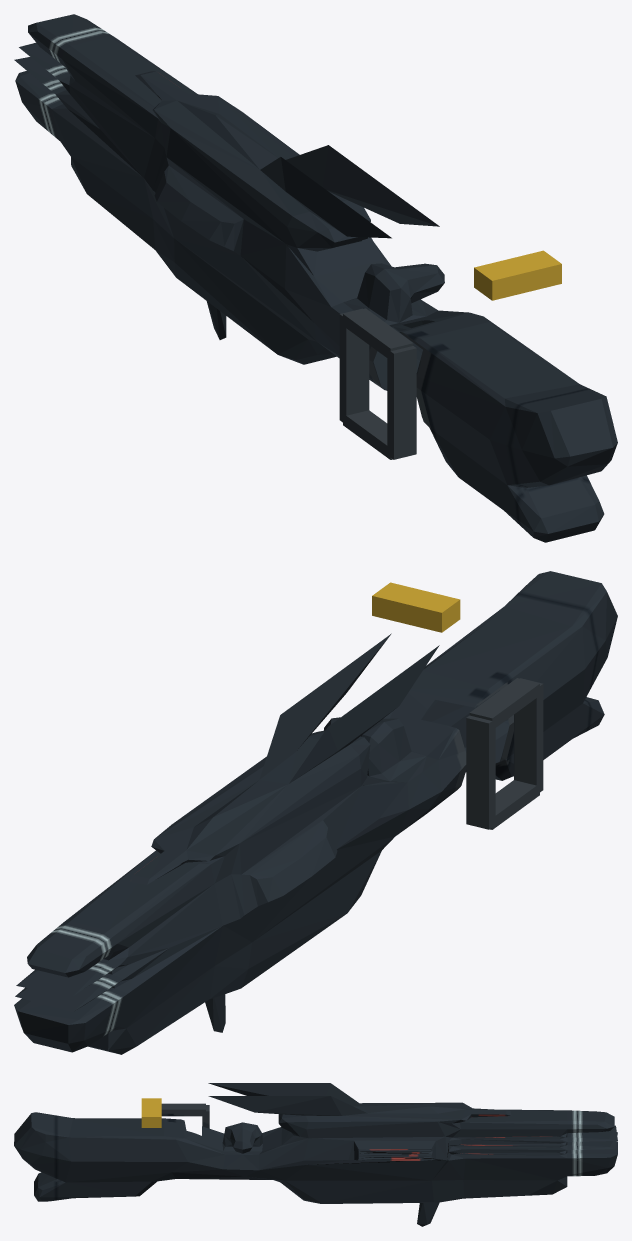
The model's file is massacre.glb.
The picture shows the model from 3 angles, top to bottom: view 1: azimuth 30°, elevation 25°; view 2: azimuth 150°, elevation 25°; view 3: azimuth 270°, elevation 25°; orthographic projection. The views are drawn at different scales.
Visible parts, largest first — view 1: massacre, ChargingHandle; view 2: massacre, ChargingHandle; view 3: massacre, ChargingHandle.
Boxes of the visible parts, bbox=[...] form: massacre: bbox=[14, 14, 617, 542]; ChargingHandle: bbox=[474, 250, 561, 300]; massacre: bbox=[14, 571, 617, 1054]; ChargingHandle: bbox=[372, 582, 460, 632]; massacre: bbox=[14, 1083, 617, 1226]; ChargingHandle: bbox=[141, 1098, 161, 1127].
Bounding box in the file's own units: 0.1265 × 0.1885 × 0.7489.
1 material, 1 textured.
